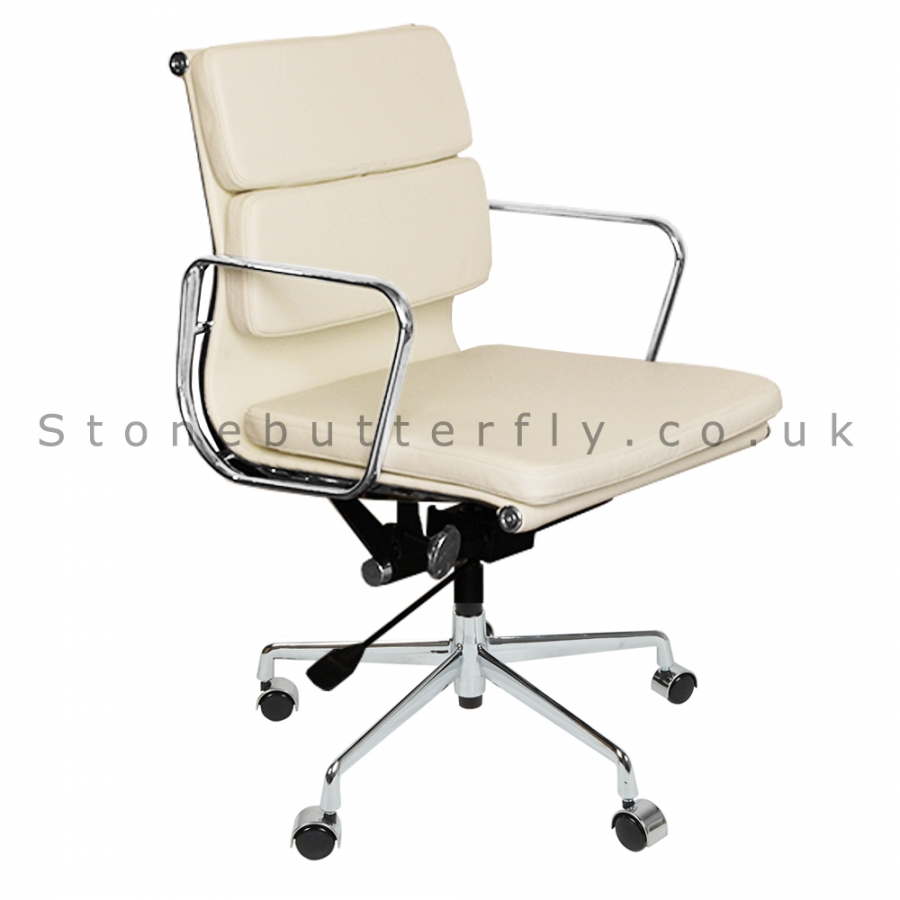chairs: (158, 17, 785, 861)
